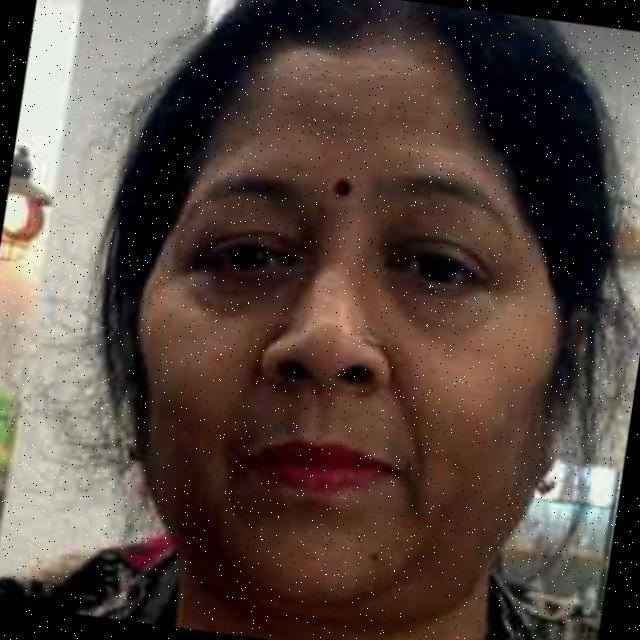puffy_eyes: (375, 276, 504, 340), (171, 276, 290, 310)
